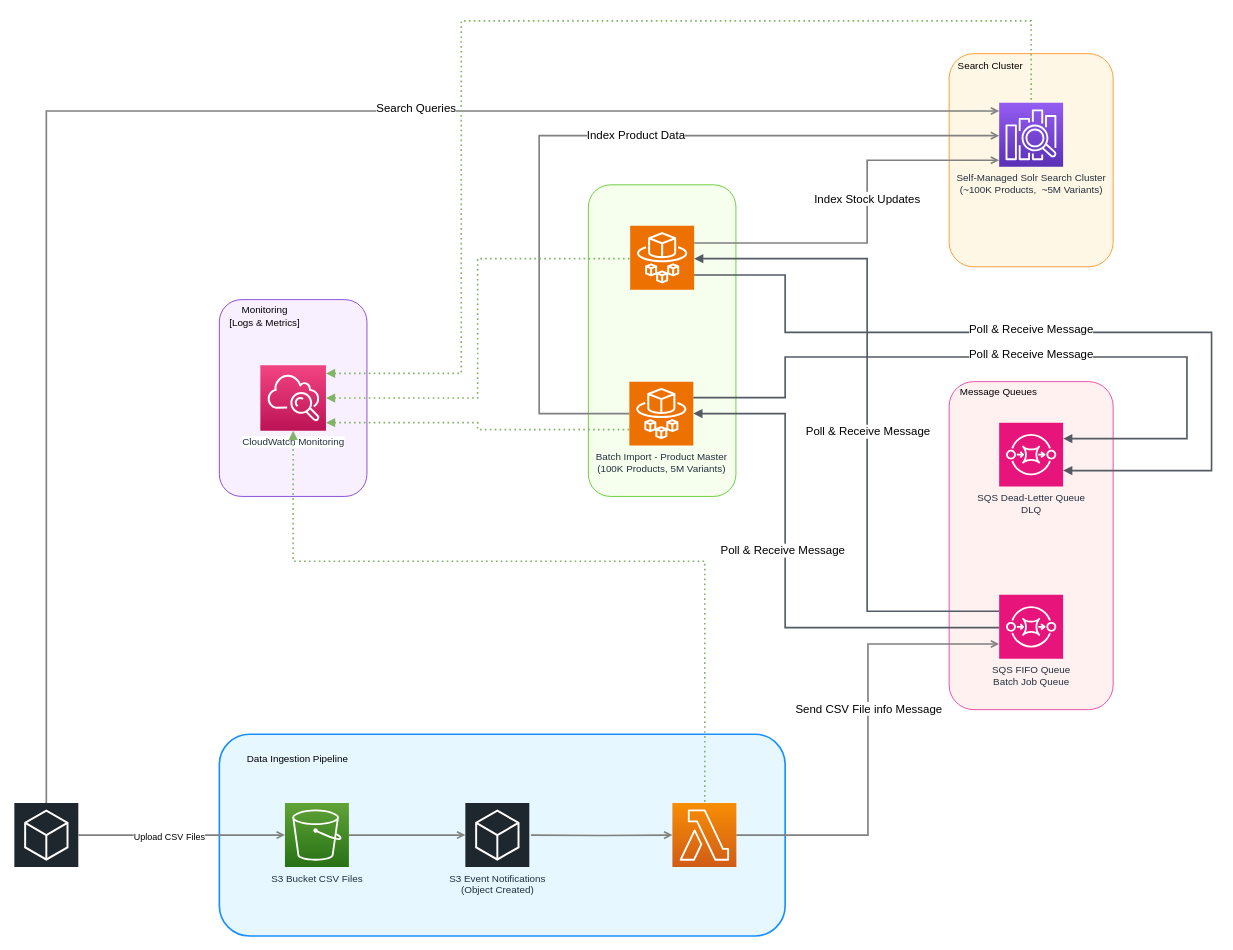
This 1233x950 diagram has some shape labels left out. The shapes that lost their labels are listed below. From the top down, each one's centre as x and y in pixels, then its label:
At [661,257]: "Batch Import - Stock Diff (Variable: 100-1000+ updates)".
At [46,834]: "Service Tools".
At [704,834]: "Lambda Function Event Handler".
